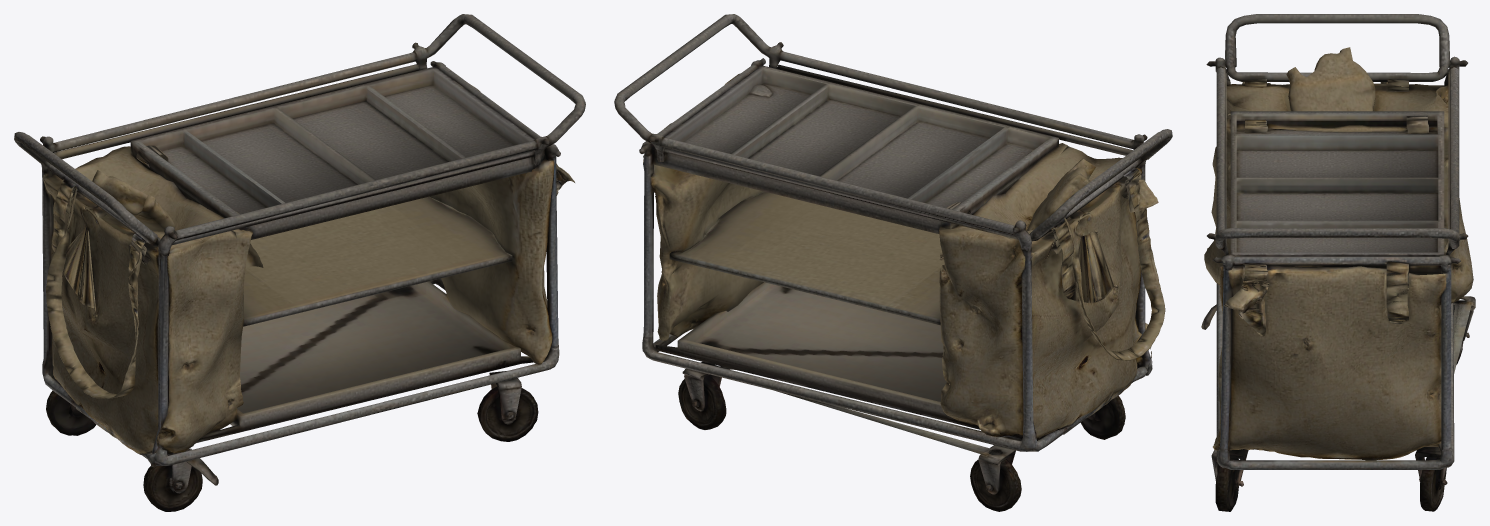
The model's file is theme-linen-cart-v05.glb.
3 views of the same model, side by side, from view 1: azimuth 30°, elevation 25°; view 2: azimuth 150°, elevation 25°; view 3: azimuth 270°, elevation 25° (orthographic). The views are drawn at different scales.
Parts seen in each view (by area): view 1: tripo_node_14968949-a4f7-4250-a53a-2cc02198563f; view 2: tripo_node_14968949-a4f7-4250-a53a-2cc02198563f; view 3: tripo_node_14968949-a4f7-4250-a53a-2cc02198563f.
Part boxes in pixels (left/top/right/bottom): tripo_node_14968949-a4f7-4250-a53a-2cc02198563f: left=14, top=14, right=585, bottom=511; tripo_node_14968949-a4f7-4250-a53a-2cc02198563f: left=614, top=14, right=1172, bottom=511; tripo_node_14968949-a4f7-4250-a53a-2cc02198563f: left=1201, top=14, right=1475, bottom=511.
Bounding box in the file's own units: 1.56 × 1.05 × 0.8248.
1 material, 1 textured.
